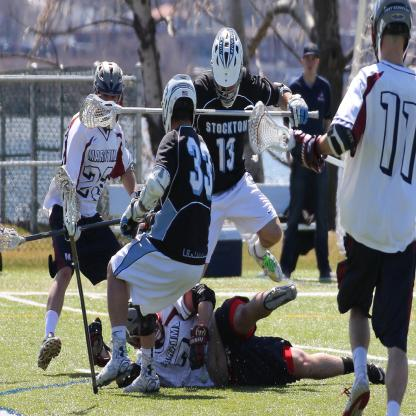Helmet: (210, 27, 246, 108), (370, 0, 411, 64), (124, 300, 166, 349), (162, 73, 196, 133), (92, 62, 124, 121)
